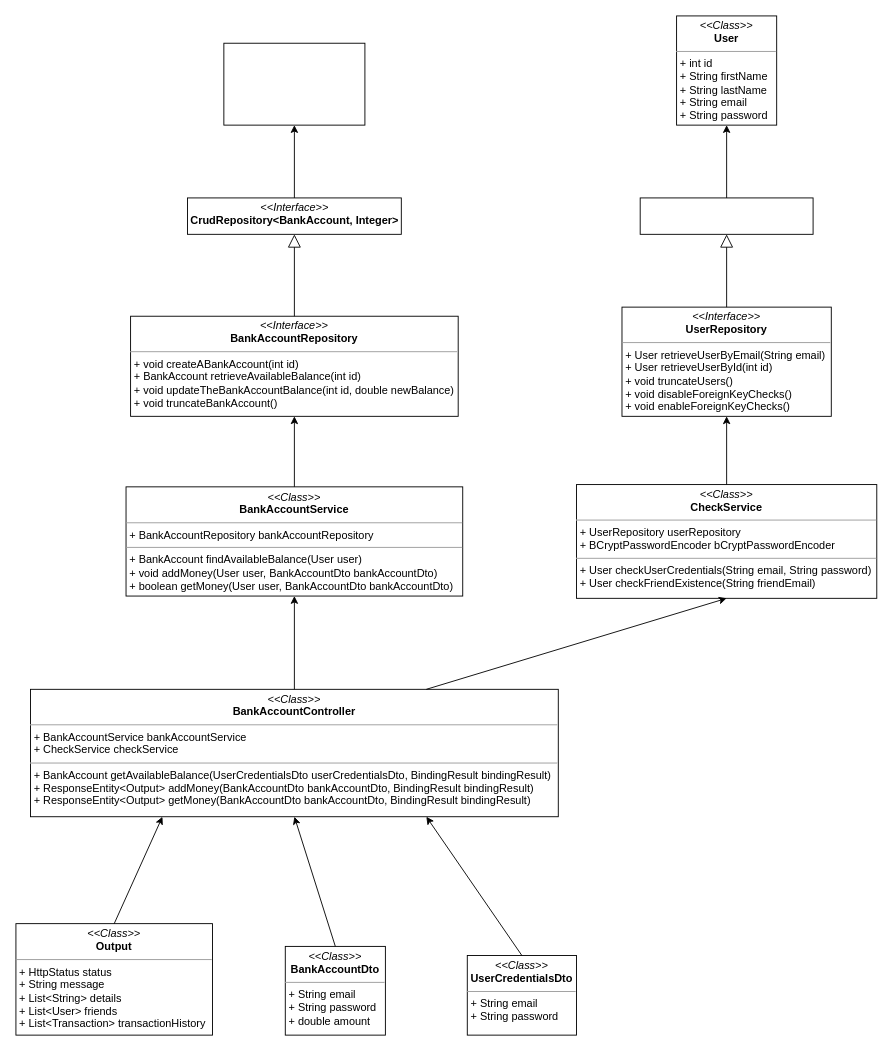
Image size: 893x1051. Some labels were removed from this diagram. Each missing label, with the box of its shape:
<< Class >> BankAccount + int id + int userId + double availableBalance: (223, 42, 365, 125)
<<Interface>> CrudRepository<User, Integer>: (639, 197, 813, 234)
